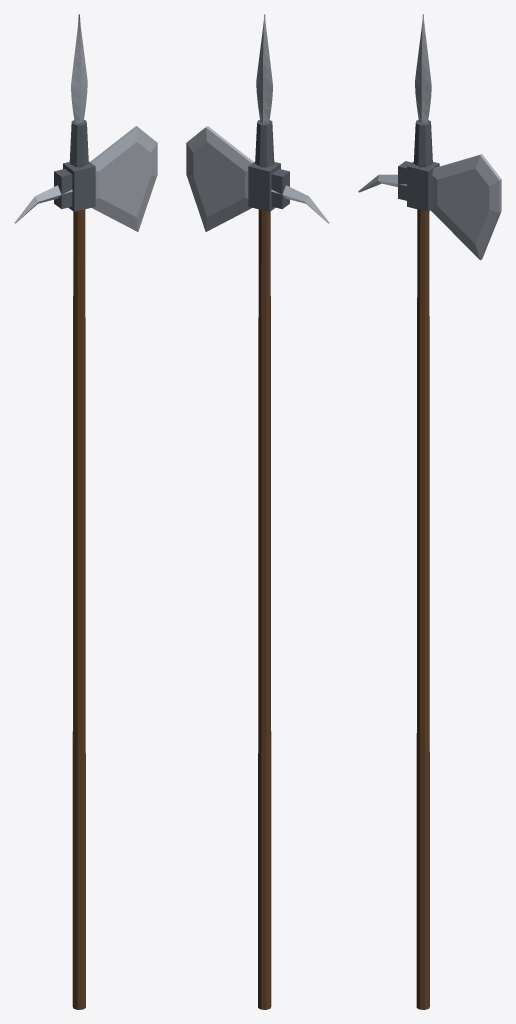
Rendered from g-halberd.glb.
3 views of the same model, side by side, from view 1: azimuth 30°, elevation 25°; view 2: azimuth 150°, elevation 25°; view 3: azimuth 330°, elevation 25° (orthographic).
Visible parts, largest first — view 1: g-halberd; view 2: g-halberd; view 3: g-halberd.
Boxes of the visible parts, x1,y1,x2,y2 form: g-halberd: (14,14,157,1009); g-halberd: (186,14,329,1009); g-halberd: (358,14,501,1009).
Size of the model in its own units: 0.3311 by 2.21 by 0.045.
